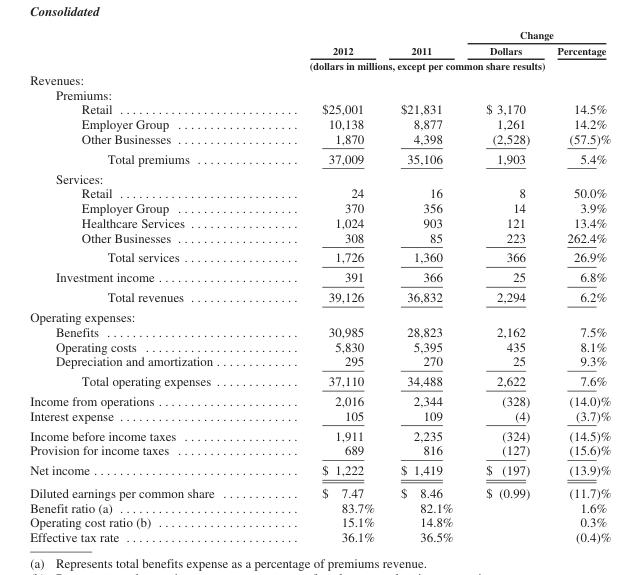table: (29, 28, 610, 543)
table column: (29, 28, 261, 543), (261, 28, 386, 543), (386, 28, 468, 543), (468, 28, 550, 543), (550, 28, 610, 543)
table column header: (29, 28, 610, 71)
table projected row header: (29, 306, 610, 324), (29, 168, 610, 185), (29, 71, 610, 86), (29, 86, 610, 101)
table row: (29, 460, 610, 481), (29, 148, 610, 168), (29, 247, 610, 267), (29, 286, 610, 306), (29, 370, 610, 390), (29, 267, 610, 286), (29, 229, 610, 247), (29, 306, 610, 324), (29, 390, 610, 408), (29, 442, 610, 460), (29, 481, 610, 499), (29, 131, 610, 148), (29, 168, 610, 185), (29, 353, 610, 370), (29, 408, 610, 425), (29, 425, 610, 442), (29, 42, 610, 57), (29, 71, 610, 86), (29, 86, 610, 101), (29, 101, 610, 116), (29, 116, 610, 131), (29, 185, 610, 200), (29, 200, 610, 215), (29, 338, 610, 353), (29, 499, 610, 514), (29, 514, 610, 529), (29, 28, 610, 42), (29, 57, 610, 71), (29, 215, 610, 229), (29, 324, 610, 338), (29, 529, 610, 543)
table spanning cell: (261, 57, 550, 71), (261, 28, 386, 57), (386, 28, 468, 57), (468, 28, 610, 42), (550, 42, 610, 71)
